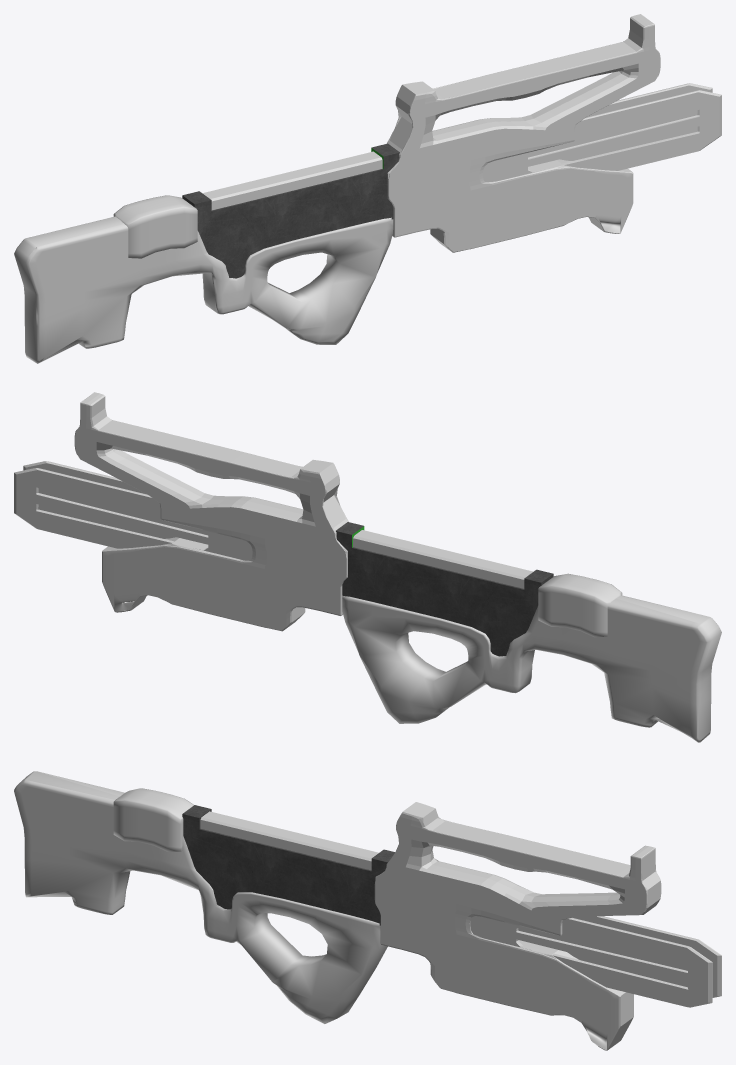
The model's file is LaserRifle.FBX.
3 views of the same model, one above another, from view 1: azimuth 30°, elevation 25°; view 2: azimuth 150°, elevation 25°; view 3: azimuth 330°, elevation 25° (orthographic).
Parts seen in each view (by area): view 1: Plane016, Plane004, Plane005, Plane006, Plane003, Plane008, Plane007; view 2: Plane016, Plane004, Plane005, Plane007, Plane003, Plane008, Plane006; view 3: Plane016, Plane004, Plane005, Plane006, Plane003, Plane008, Plane007.
Part boxes in pixels (x1=…): Plane016: x1=387, y1=14, x2=660, y2=252; Plane004: x1=14, y1=216, x2=393, y2=363; Plane005: x1=182, y1=143, x2=399, y2=278; Plane006: x1=483, y1=90, x2=721, y2=182; Plane003: x1=113, y1=195, x2=197, y2=258; Plane008: x1=202, y1=151, x2=382, y2=210; Plane007: x1=528, y1=83, x2=712, y2=160; Plane016: x1=74, y1=392, x2=348, y2=631; Plane004: x1=342, y1=595, x2=721, y2=742; Plane005: x1=336, y1=522, x2=553, y2=656; Plane007: x1=14, y1=468, x2=252, y2=560; Plane003: x1=538, y1=573, x2=622, y2=637; Plane008: x1=353, y1=530, x2=532, y2=588; Plane006: x1=23, y1=461, x2=208, y2=538; Plane016: x1=374, y1=802, x2=661, y2=1050; Plane004: x1=14, y1=771, x2=387, y2=1023; Plane005: x1=182, y1=805, x2=394, y2=925; Plane006: x1=470, y1=916, x2=712, y2=1007; Plane003: x1=113, y1=788, x2=193, y2=851; Plane008: x1=200, y1=811, x2=378, y2=870; Plane007: x1=518, y1=916, x2=721, y2=997.
Bounding box in the file's own units: 1.55 × 0.5207 × 0.0668.
1 material, 1 textured.
